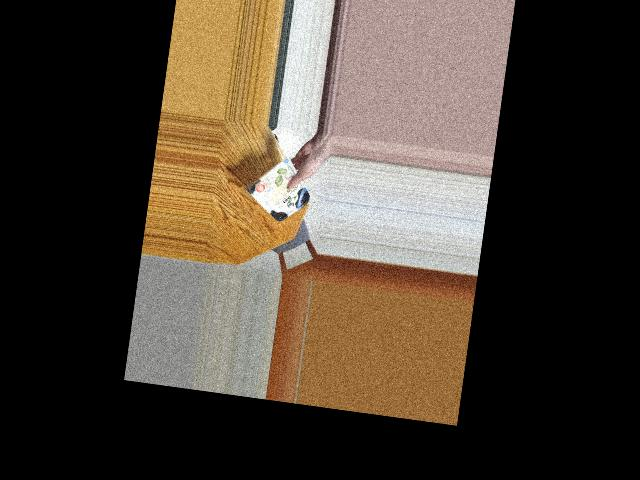cheese: (252, 164, 313, 219)
